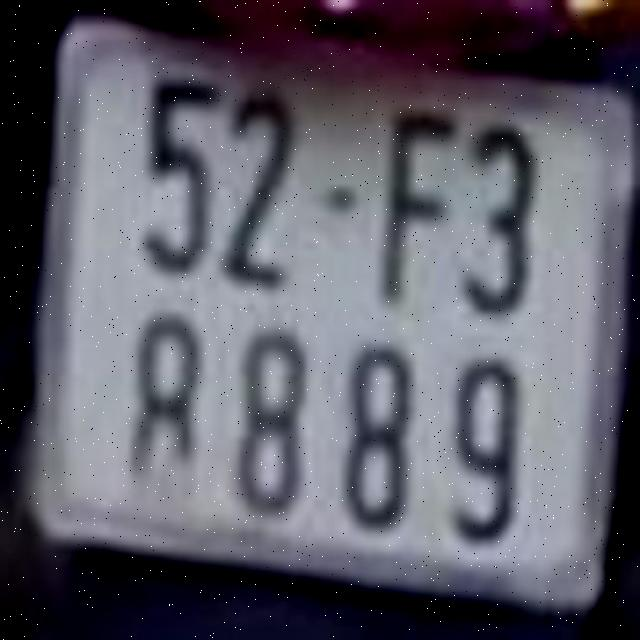2: (225, 88, 295, 289)
3: (465, 119, 535, 316)
5: (142, 74, 216, 276)
8: (130, 311, 201, 506), (238, 326, 305, 517), (346, 341, 411, 530)
9: (451, 352, 519, 544)
F: (381, 106, 455, 306)
